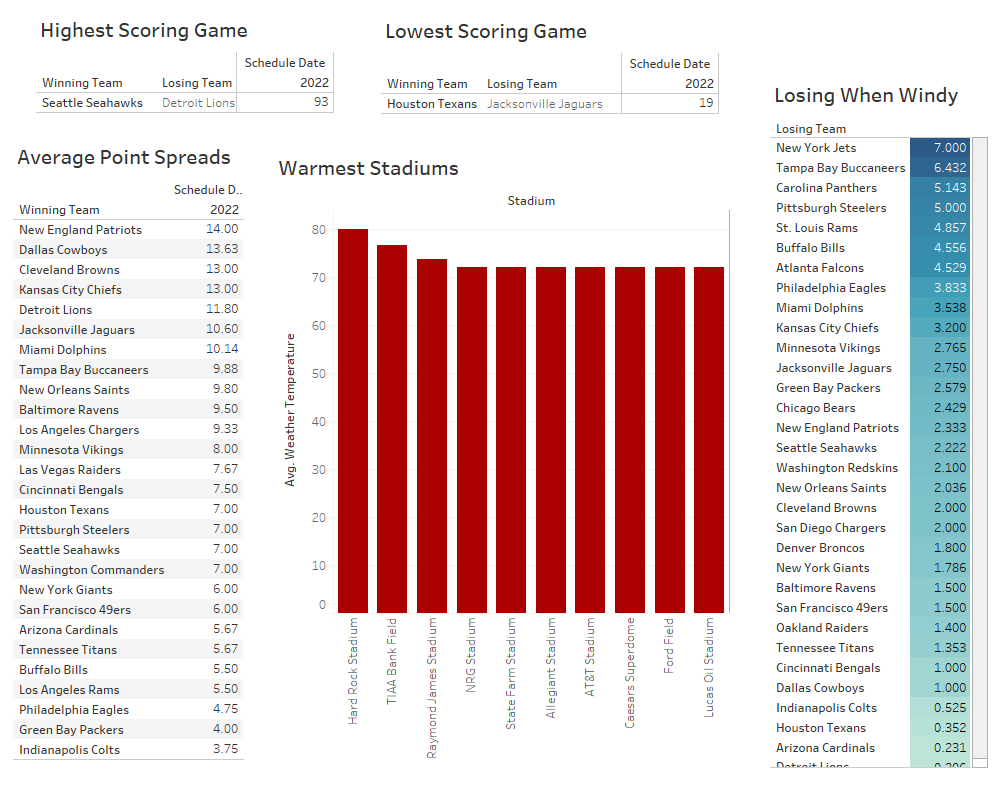

This screenshot's page, from the dashboard's own definition file:
{"tool":"tableau","page":{"name":"Dashboard 1","canvas":[1000,800],"ordinal":0},"visuals":[{"type":"worksheet","title":"Highest Scoring Game","mark":"Automatic","rows":["Calculation_232498358532509696","Winning Team (copy)_232498358538534914"],"cols":["schedule_date"],"box":[36,9,333,112]},{"type":"worksheet","title":"Lowest Scoring Game","mark":"Automatic","rows":["Calculation_232498358532509696","Winning Team (copy)_232498358538534914"],"cols":["schedule_date"],"box":[381,10,367,112]},{"type":"worksheet","title":"Losing When Windy","mark":"Square","rows":["Winning Team (copy)_232498358538534914"],"box":[770,74,220,722]},{"type":"worksheet","title":"Average Point Spreads","mark":"Automatic","rows":["Calculation_232498358532509696"],"cols":["schedule_date"],"box":[13,136,274,653]},{"type":"worksheet","title":"Warmest Stadiums","mark":"Bar","rows":["weather_temperature"],"cols":["stadium"],"box":[274,147,456,627]}]}

Visuals, with their boxes in screenshot pixels (x1, y1, x2, y2), scaled from the page's 1000x800 canvas onto the 1000x800 screenshot:
"Highest Scoring Game" worksheet: select_region(36, 9, 369, 121)
"Lowest Scoring Game" worksheet: select_region(381, 10, 748, 122)
"Losing When Windy" worksheet (Square marks): select_region(770, 74, 990, 796)
"Average Point Spreads" worksheet: select_region(13, 136, 287, 789)
"Warmest Stadiums" worksheet (Bar marks): select_region(274, 147, 730, 774)
